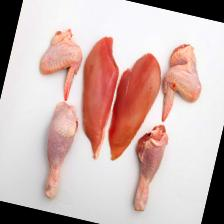chicken: (100, 47, 168, 168), (64, 33, 126, 162), (154, 39, 211, 128), (34, 100, 83, 202), (122, 119, 172, 215), (33, 23, 88, 102)
